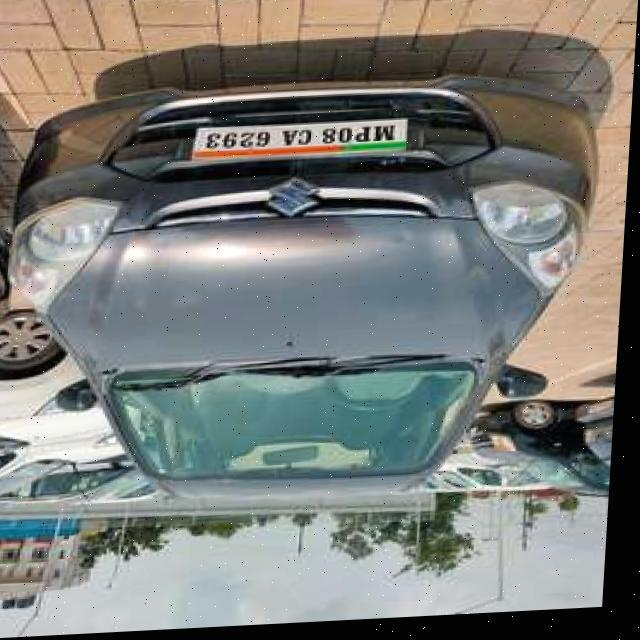plate: (191, 121, 412, 165)
